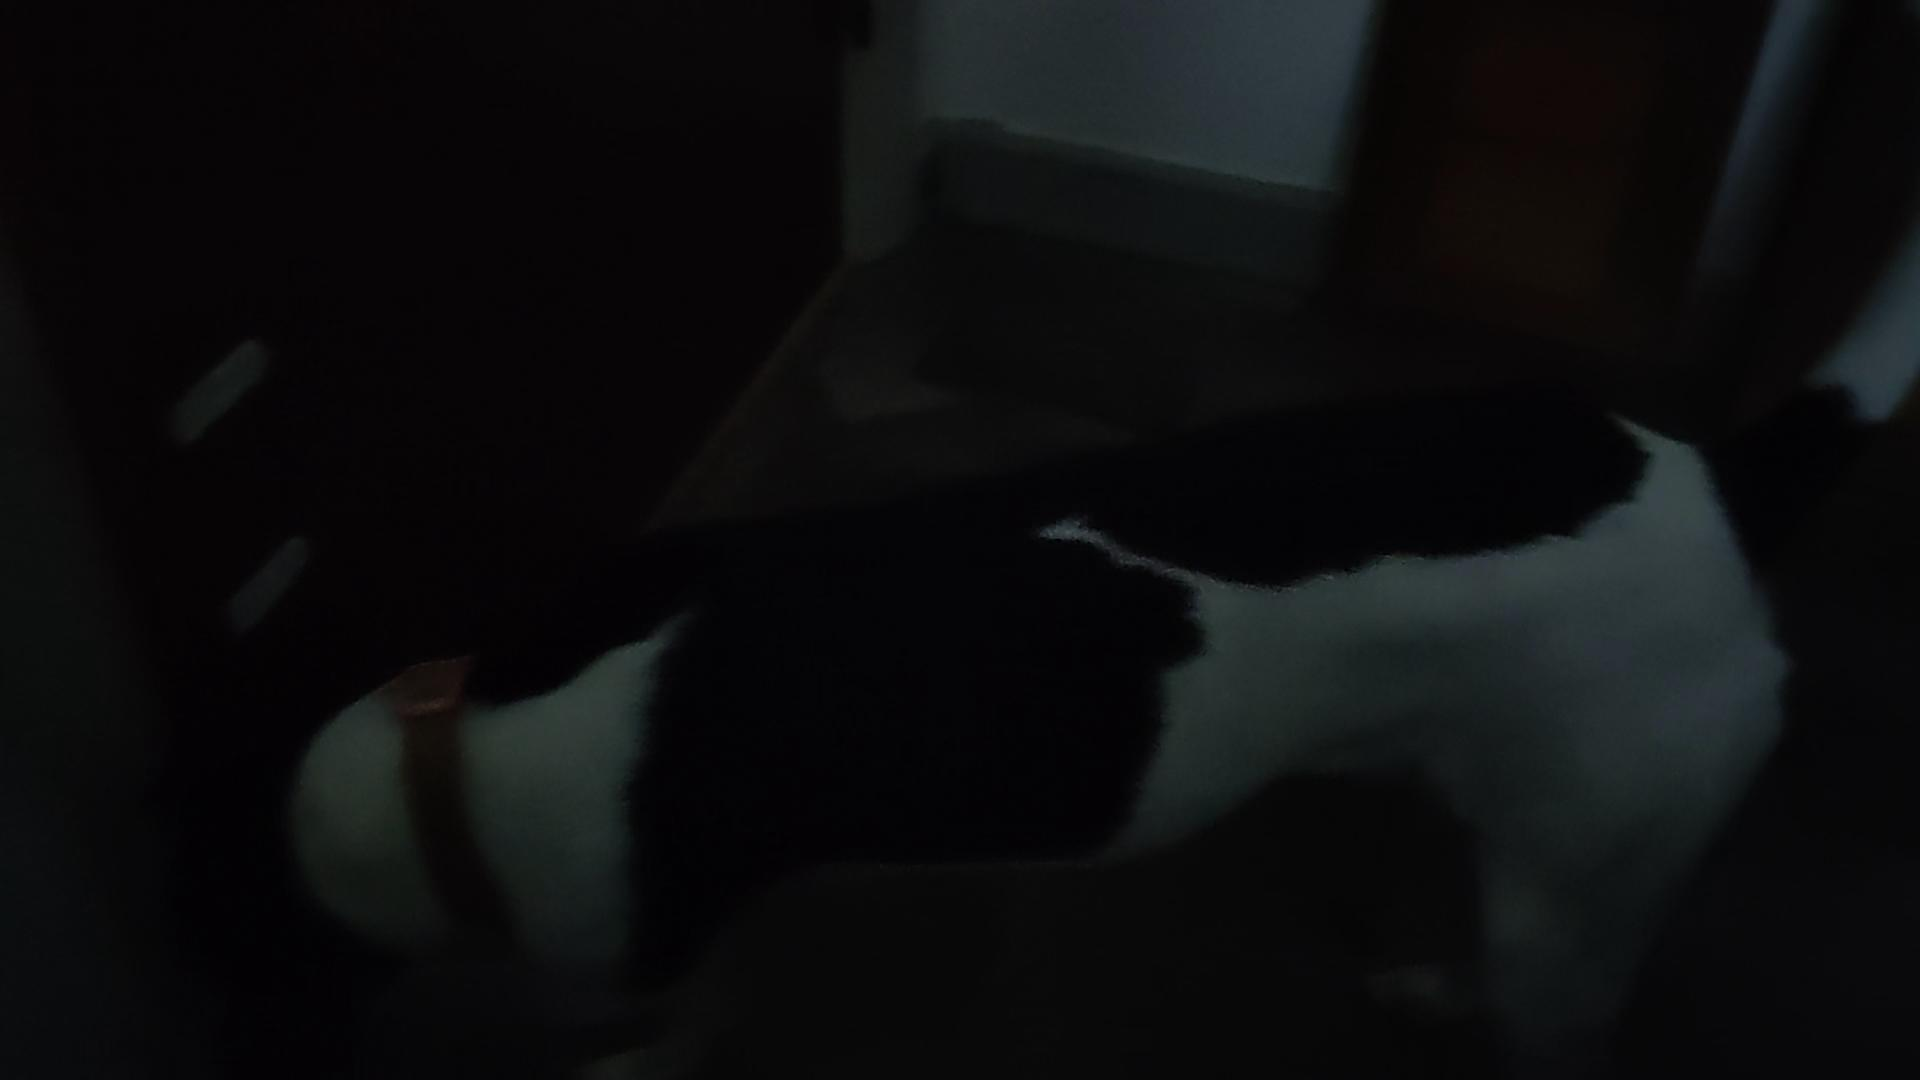Dog: (98, 156, 1919, 1079)
